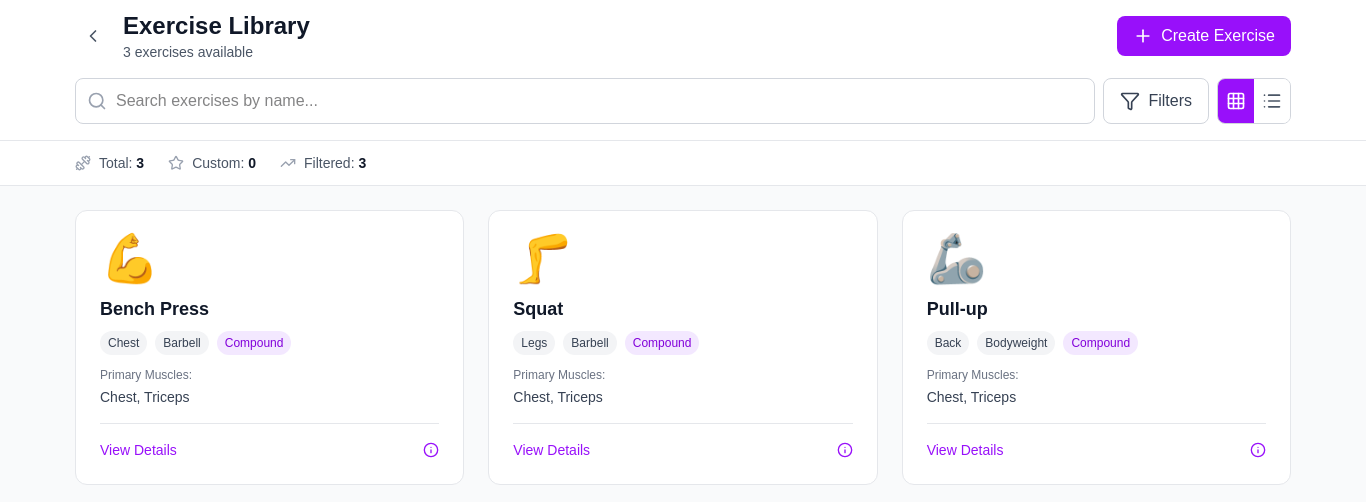
it: Exercise Library Integration › Search and Filter Integration › should filter exercises by search term
# Type in search
Type "bench" into the field with placeholder "Search exercises by name...".
click(585, 101); type("bench")  # box [75,78,1095,124]
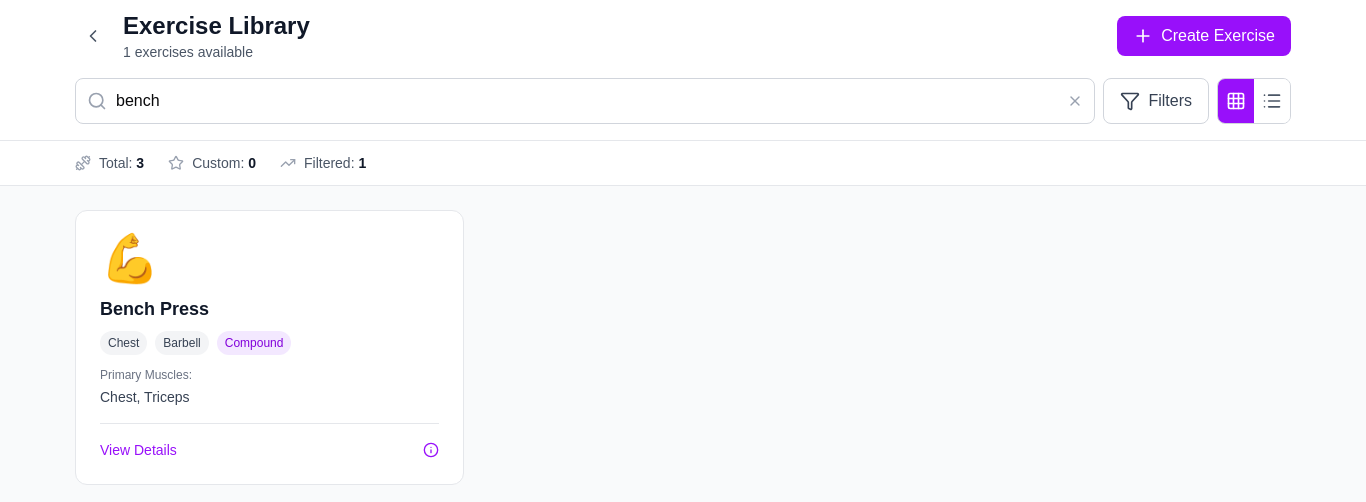
Expected: the heading "Bench Press" is shown, [100,299,209,319]
Now the button "Squat" is gone
Now the button "Pull-up" is gone
